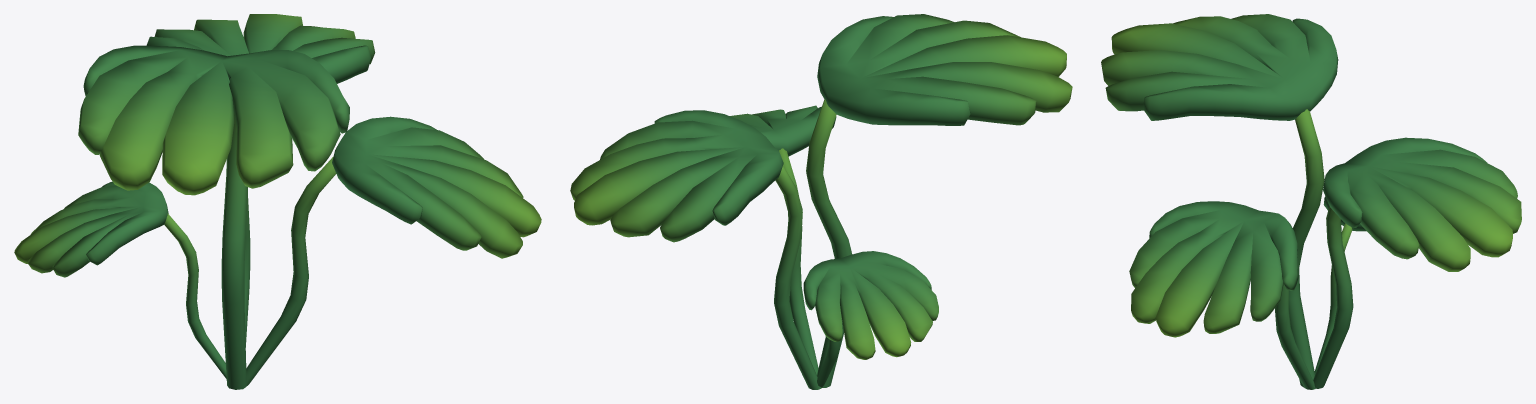
File: Plants_006.fbx
3 renders of one model, left to right at view 1: azimuth 30°, elevation 25°; view 2: azimuth 150°, elevation 25°; view 3: azimuth 270°, elevation 25°, orthographic. The views are drawn at different scales.
Visible parts, largest first — view 1: Plants.006; view 2: Plants.006; view 3: Plants.006.
Part boxes in pixels (x1,y1,x2,y2): Plants.006: (14, 14, 541, 389); Plants.006: (570, 14, 1072, 389); Plants.006: (1101, 14, 1521, 389).
Bounding box in the file's own units: 644 × 508 × 637.
